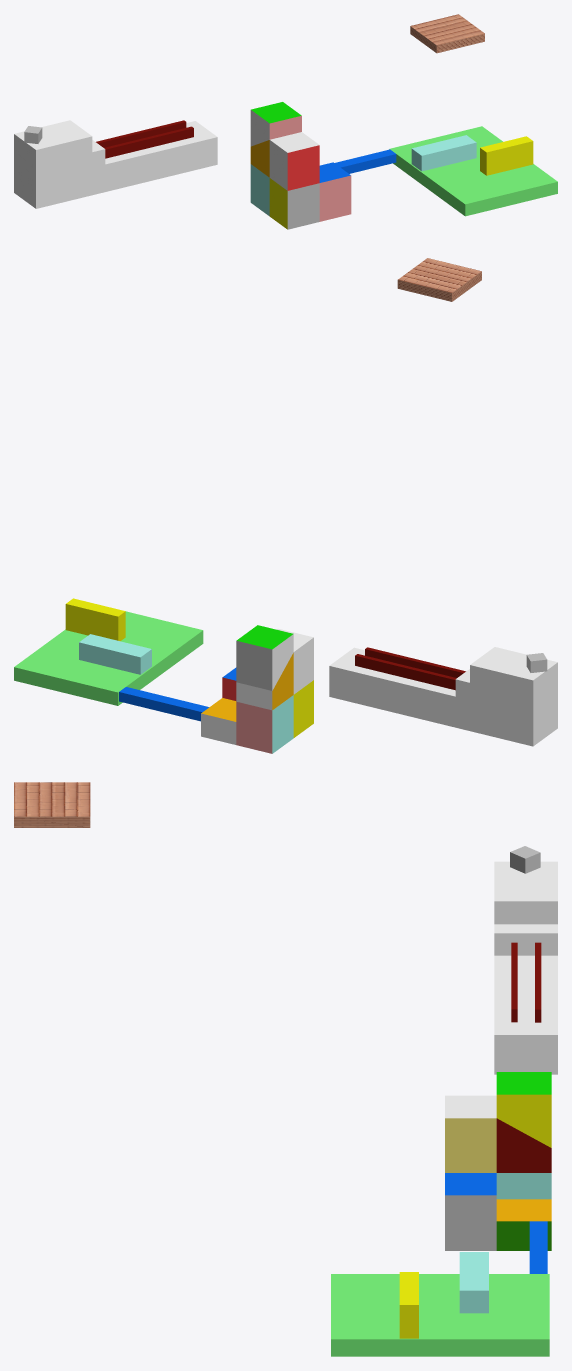
Rendered from gameStage03.fbx.
3 views of the same model, one above another, from view 1: azimuth 30°, elevation 25°; view 2: azimuth 150°, elevation 25°; view 3: azimuth 270°, elevation 25° (orthographic). The views are drawn at different scales.
Visible parts, largest first — view 1: Ground03, Groud02, Ground01, Box003, Box02, Box01, Wall02, Bridge01, Wall03, StarBox; view 2: Ground03, Groud02, Ground01, Box003, Box02, Box01, Bridge01, Wall03, Wall02; view 3: Groud02, Ground01, Ground03, Box003, Box02, Box01, Bridge01.
Part boxes in pixels (box(x1,y1,x2,y2)): Ground03: box(14, 120, 217, 208); Groud02: box(250, 102, 351, 229); Ground01: box(389, 126, 557, 216); Box003: box(410, 14, 484, 53); Box02: box(411, 135, 476, 171); Box01: box(480, 136, 533, 175); Wall02: box(104, 126, 193, 158); Bridge01: box(334, 149, 396, 173); Wall03: box(96, 120, 186, 147); StarBox: box(24, 126, 42, 143); Ground03: box(329, 647, 557, 746); Groud02: box(201, 625, 313, 753); Ground01: box(14, 611, 203, 705); Box003: box(397, 258, 481, 301); Box02: box(79, 634, 151, 674); Box01: box(65, 598, 125, 641); Bridge01: box(119, 687, 209, 721); Wall03: box(355, 654, 456, 690); Wall02: box(365, 647, 465, 677); Groud02: box(445, 1072, 551, 1250); Ground01: box(331, 1274, 549, 1356); Ground03: box(494, 861, 557, 1074); Box003: box(14, 782, 90, 827); Box02: box(459, 1252, 488, 1313); Box01: box(399, 1272, 418, 1338); Bridge01: box(529, 1221, 547, 1273).
Size of the model in its own units: 4492 by 3144 by 2702.
